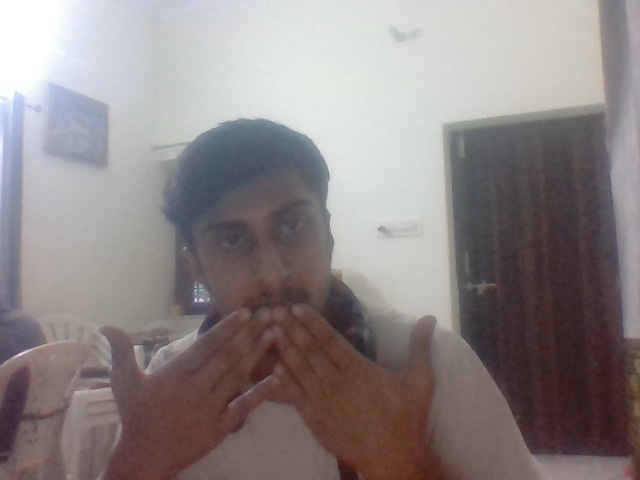ThankYou: (98, 303, 442, 450)
